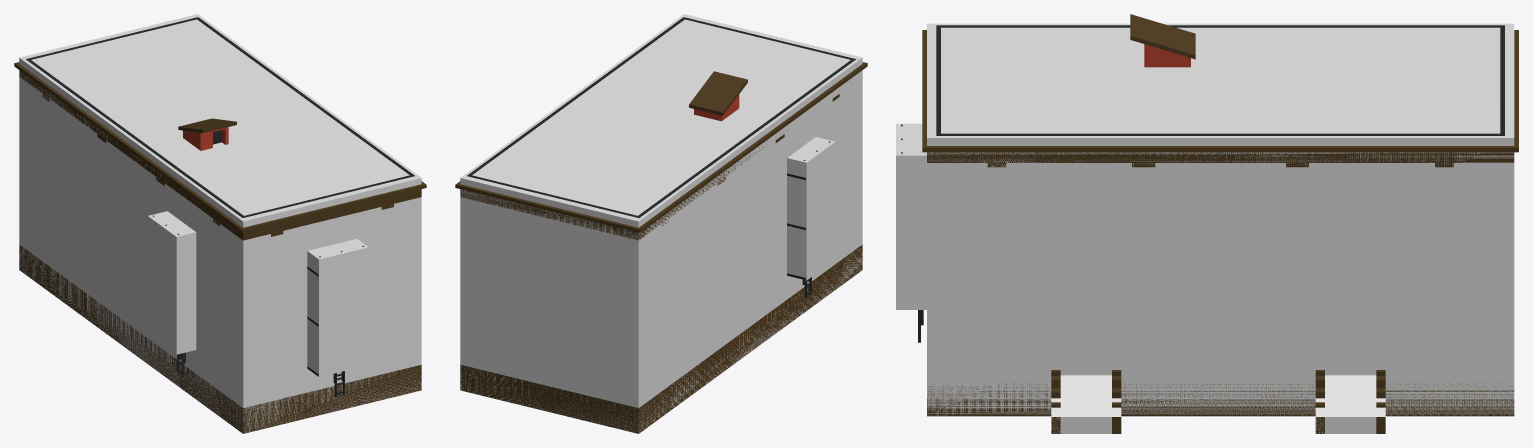
File: Building_B2_Home02_1_01.FBX
3 views of the same model, side by side, from view 1: azimuth 30°, elevation 25°; view 2: azimuth 150°, elevation 25°; view 3: azimuth 270°, elevation 25° (orthographic). The views are drawn at different scales.
Visible parts, largest first — view 1: Building_B2_Home02_Damage_1_01, Building_B2_Home02_Live_1_01; view 2: Building_B2_Home02_Damage_1_01, Building_B2_Home02_Live_1_01; view 3: Building_B2_Home02_Damage_1_01, Building_B2_Home02_Live_1_01.
Boxes of the visible parts, <box> form: Building_B2_Home02_Damage_1_01: <box>19,14,421,433</box>; Building_B2_Home02_Live_1_01: <box>14,17,426,433</box>; Building_B2_Home02_Damage_1_01: <box>460,14,862,432</box>; Building_B2_Home02_Live_1_01: <box>455,17,867,433</box>; Building_B2_Home02_Damage_1_01: <box>896,23,1514,433</box>; Building_B2_Home02_Live_1_01: <box>901,14,1518,433</box>.
Size of the model in its own units: 9.53 by 9.6 by 17.37.
